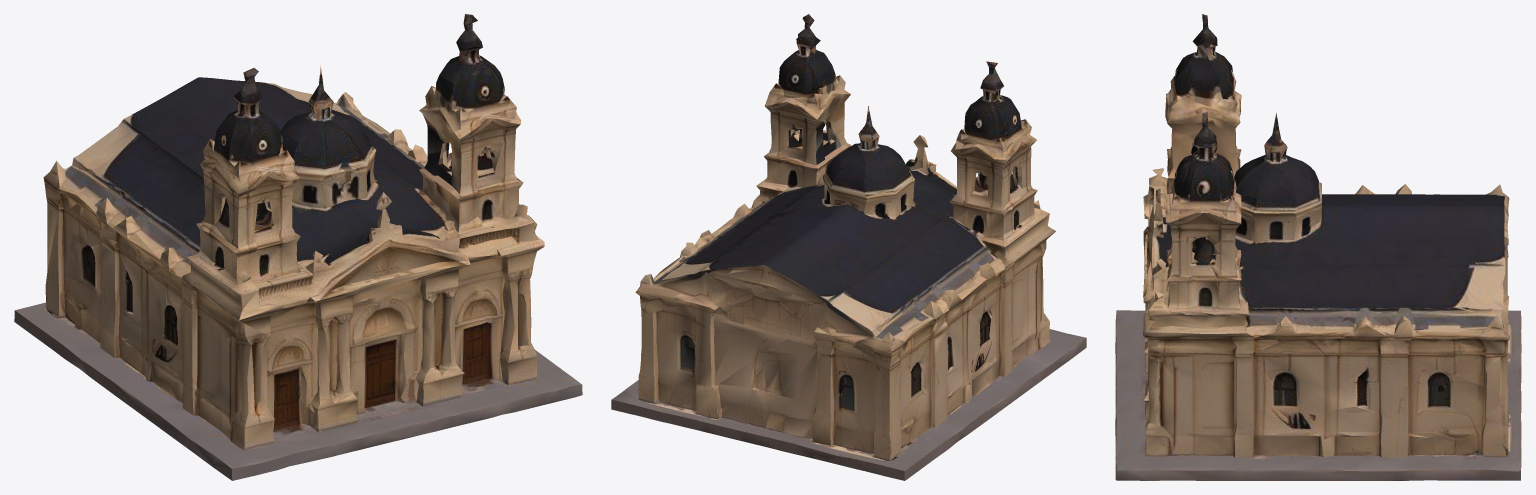
The model's file is santiago-metropolitan-cathedral.glb.
The picture shows the model from 3 angles, left to right: view 1: azimuth 30°, elevation 25°; view 2: azimuth 150°, elevation 25°; view 3: azimuth 270°, elevation 25°; orthographic projection. The views are drawn at different scales.
Parts seen in each view (by area): view 1: logan-textured.obj; view 2: logan-textured.obj; view 3: logan-textured.obj.
Part boxes in pixels (left/top/right/bottom): logan-textured.obj: left=14, top=14, right=582, bottom=480; logan-textured.obj: left=611, top=14, right=1086, bottom=480; logan-textured.obj: left=1115, top=14, right=1521, bottom=480.
Size of the model in its own units: 0.931 by 0.9184 by 1.
Materials: 1 (1 with a texture image).
